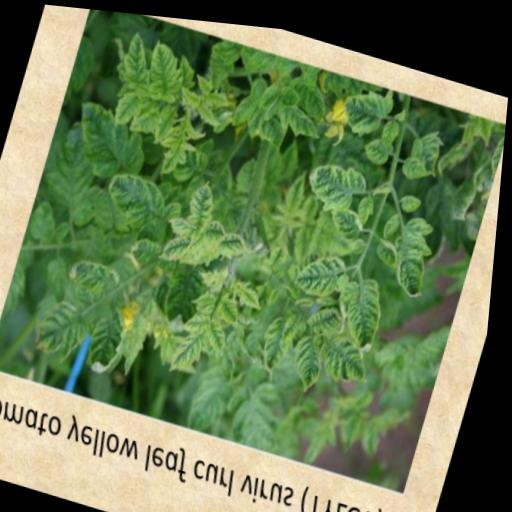Yellow Leaf Curl Virus: (60, 93, 167, 196), (98, 159, 175, 240), (334, 256, 399, 342), (300, 146, 375, 217), (386, 201, 445, 291), (35, 296, 102, 368), (85, 297, 143, 379), (289, 316, 344, 391), (296, 233, 357, 296), (334, 78, 399, 135), (321, 328, 384, 386), (257, 298, 304, 372), (182, 164, 228, 235), (116, 27, 163, 89), (71, 251, 130, 298), (276, 91, 336, 137), (145, 34, 187, 97), (111, 74, 155, 133), (174, 318, 218, 375), (216, 214, 264, 265), (160, 219, 206, 266), (206, 306, 240, 355), (230, 78, 263, 127), (362, 122, 400, 163), (232, 270, 274, 307), (154, 97, 184, 143), (187, 303, 217, 339)
